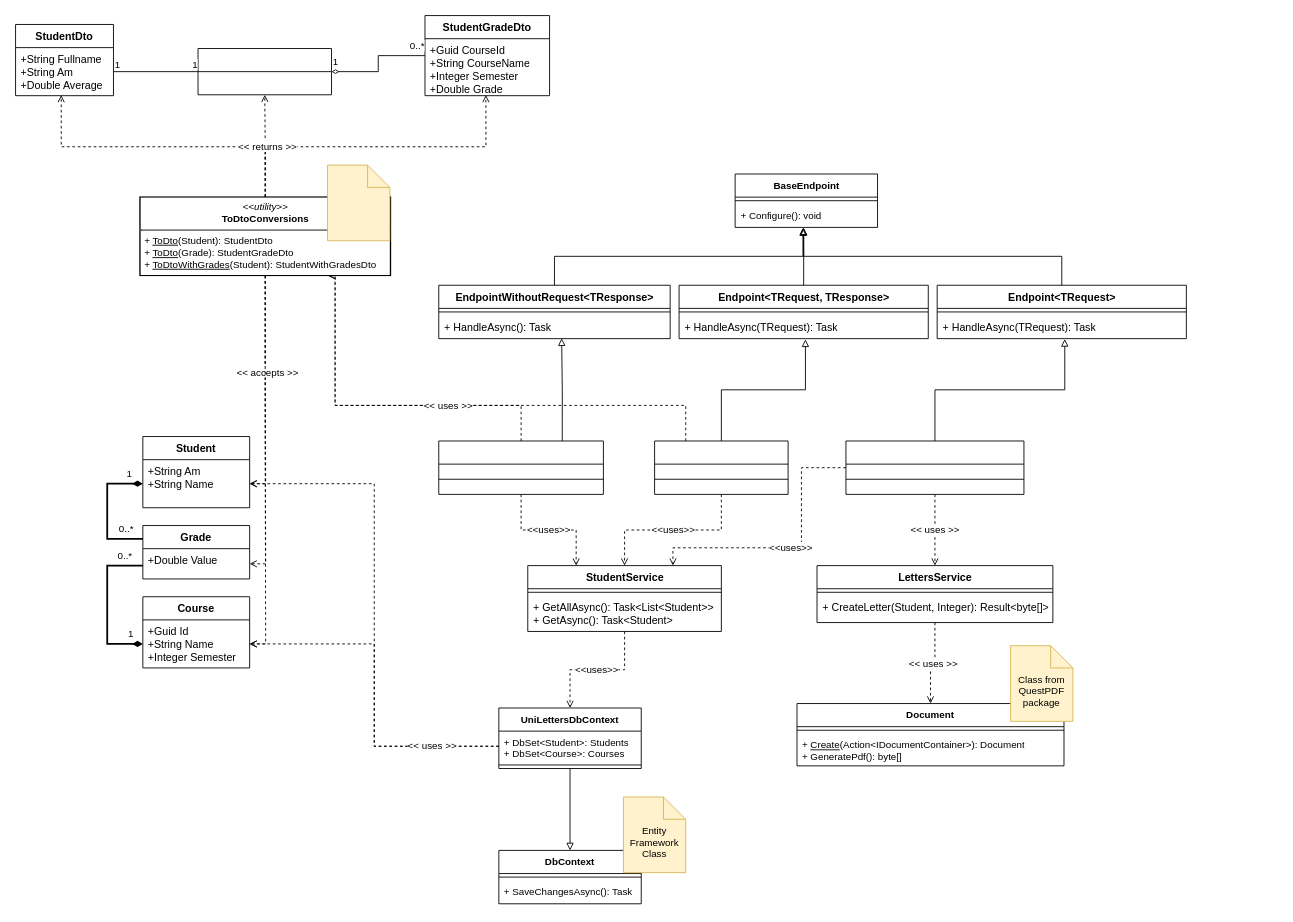
The diagram is 1293 pixels wide and 922 high, and some of its shapes have lost their labels. Each missing label, with the centre of its shape:
CreateReferenceLetterEndpoint: (x=934, y=467)
Defines C# "Extension Methods": (x=358, y=202)
GetAllStudentsEndpoint: (x=520, y=467)
GetStudentEndpoint: (x=721, y=467)
StudentWithGradesDto: (x=264, y=71)
